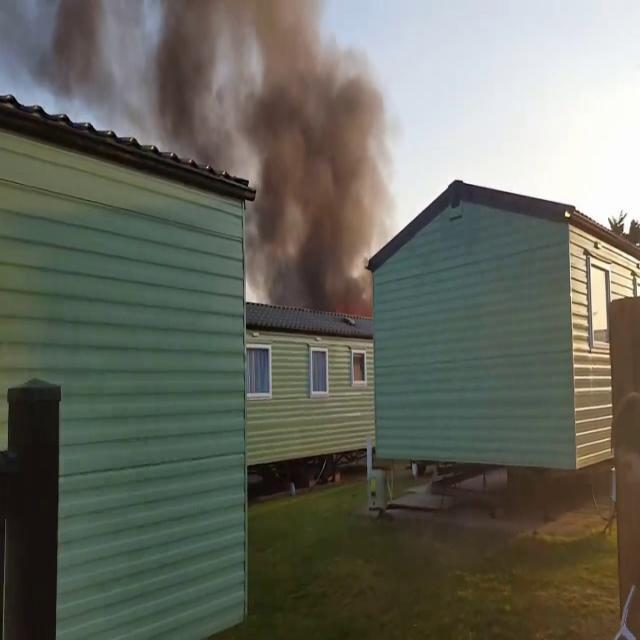Smoke: (241, 0, 395, 308), (1, 0, 250, 146)
